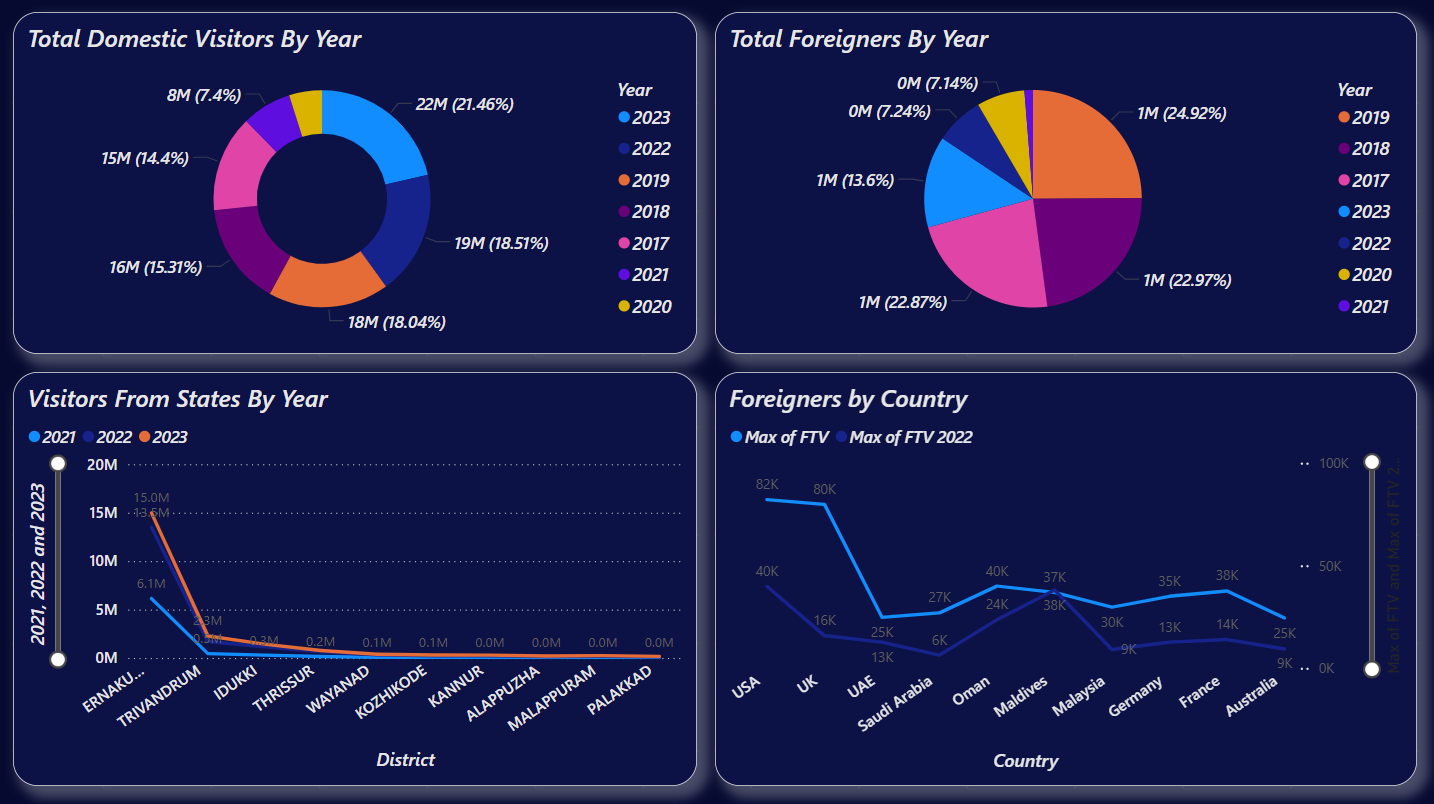

The dashboard page shown, as its layout file describes it:
{"tool":"powerbi","page":{"name":"Analysis by Year","canvas":[1280,720],"ordinal":1},"visuals":[{"type":"donutChart","title":"Total Domestic Visitors By Year","fields":{"Y":["Max(Total Visiters by Year.DOMESTICTOURIST VISITS(DTV))"],"Category":["Total Visiters by Year.Year"]},"box":[16,16,608,304],"z":0},{"type":"pieChart","title":"Total Foreigners By Year","fields":{"Y":["Sum(Total Visiters by Year.FOREIGNTOURIST VISITS(FTV))"],"Category":["Total Visiters by Year.Year"]},"box":[640,16,624,304],"z":1000},{"type":"lineChart","title":"Visitors From States By Year","fields":{"Category":["District Visit.District"],"Y":["Sum(Domestic Visiters 2022.DTV 2021)","Sum(Domestic Visiters 2022.DTV 2022)","Sum(Domestic Visiters 2023.DTV 2023)"]},"box":[16,336,608,368],"z":2000},{"type":"lineChart","title":"Foreigners by Country","fields":{"Category":["Foreign Visiters 2022.Country"],"Y2":["Max(Foreign Visiters 2023.FTV)","Max(Foreign Visiters 2022.FTV 2022)"]},"box":[640,336,624,368],"z":3000}]}

Visuals, with their boxes in screenshot pixels (x1, y1, x2, y2), scaled from the page's 1280x720 canvas onto the 1434x804 screenshot:
"Total Domestic Visitors By Year" donutChart: select_region(18, 18, 699, 357)
"Total Foreigners By Year" pieChart: select_region(717, 18, 1416, 357)
"Visitors From States By Year" lineChart: select_region(18, 375, 699, 786)
"Foreigners by Country" lineChart: select_region(717, 375, 1416, 786)
